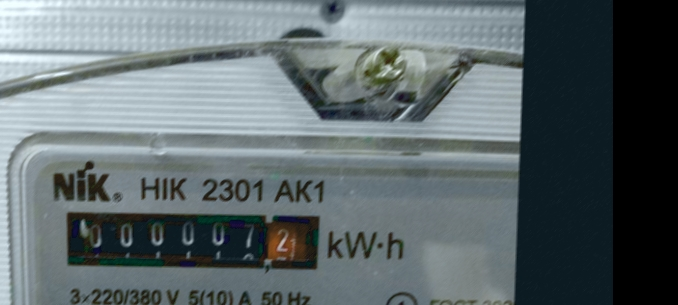0: (147, 219, 166, 247), (117, 220, 135, 249), (209, 218, 226, 247), (86, 221, 104, 248), (179, 218, 195, 246)
2: (274, 225, 291, 254)
7: (239, 220, 256, 250)
screen: (56, 198, 332, 280)
